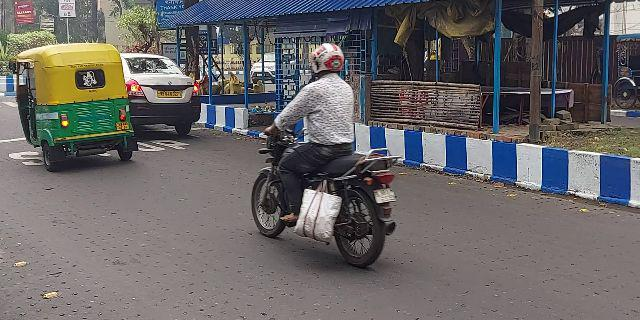Autorickshaw: (12, 36, 142, 165)
Car: (120, 44, 211, 134)
Motorbike: (241, 29, 403, 274)
